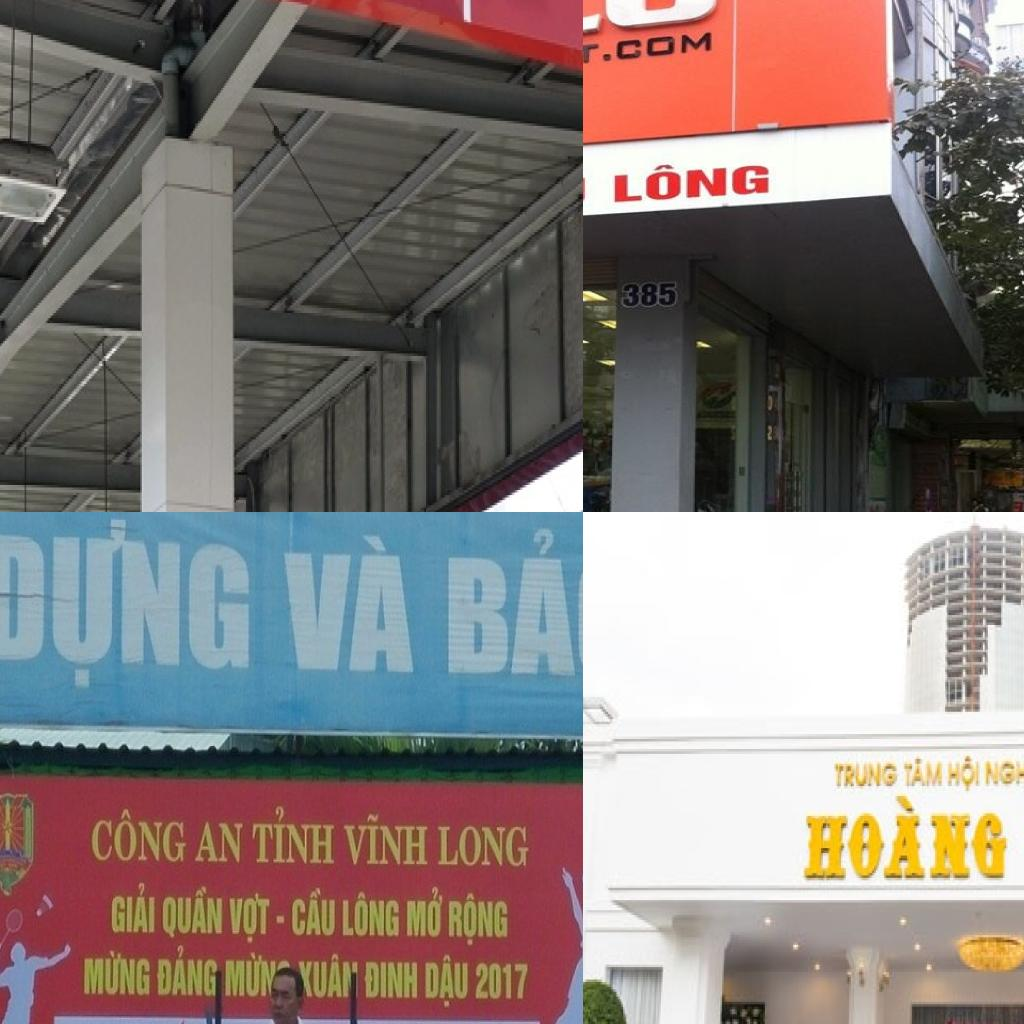text: (0, 512, 254, 696), (434, 518, 583, 690), (268, 522, 424, 686), (798, 789, 1018, 885), (612, 161, 772, 204), (87, 806, 190, 868), (583, 30, 713, 76), (249, 800, 338, 867), (341, 809, 431, 868), (433, 822, 531, 872), (158, 881, 227, 942), (80, 945, 151, 999), (445, 891, 511, 947), (154, 944, 220, 998), (340, 888, 401, 941), (294, 952, 360, 999), (106, 881, 159, 938), (222, 947, 279, 999), (191, 817, 245, 868), (422, 952, 470, 1009), (227, 890, 273, 948), (473, 960, 532, 1004), (290, 886, 337, 940), (363, 958, 419, 1002), (404, 881, 445, 941), (831, 759, 902, 793), (983, 756, 1024, 798), (902, 754, 947, 791), (947, 754, 983, 798), (621, 282, 679, 309), (331, 1020, 354, 1024)
